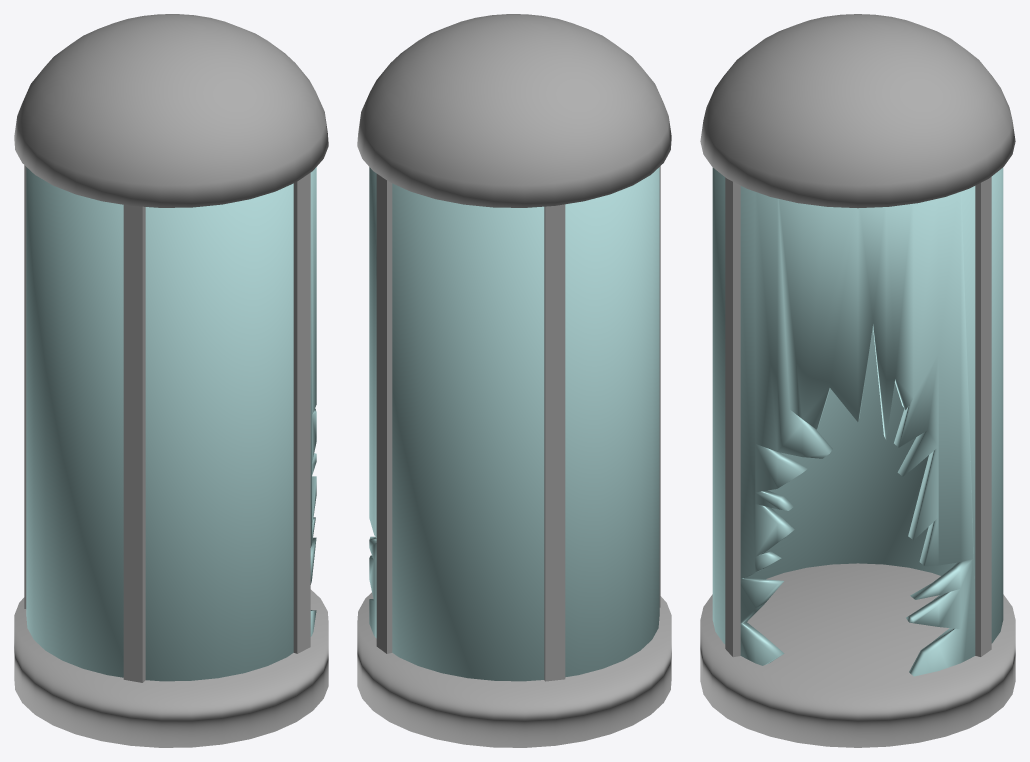
Rendered from monster_tube.fbx.
The picture shows the model from 3 angles, left to right: view 1: azimuth 30°, elevation 25°; view 2: azimuth 150°, elevation 25°; view 3: azimuth 270°, elevation 25°; orthographic projection.
Visible parts, largest first — view 1: Cylinder, Sphere, Cylinder.001, Cube.002, Cube, Cube.003; view 2: Cylinder, Sphere, Cylinder.001, Cube.003, Cube.001, Cube.002; view 3: Cylinder, Sphere, Cylinder.001, Cube.001, Cube.
Part boxes in pixels (<box>): Cylinder: <box>26,167,316,681</box>; Sphere: <box>14,14,328,207</box>; Cylinder.001: <box>14,589,328,747</box>; Cube.002: <box>123,205,145,682</box>; Cube: <box>293,173,310,653</box>; Cube.003: <box>24,165,26,608</box>; Cylinder: <box>369,167,659,681</box>; Sphere: <box>357,14,671,207</box>; Cylinder.001: <box>357,592,671,747</box>; Cube.003: <box>544,204,565,681</box>; Cube.001: <box>376,174,392,653</box>; Cube.002: <box>659,166,660,607</box>; Cylinder: <box>712,167,1003,676</box>; Sphere: <box>700,14,1015,208</box>; Cylinder.001: <box>700,563,1015,747</box>; Cube.001: <box>975,177,991,656</box>; Cube: <box>725,177,740,657</box>.
Bounding box in the file's own units: 200 × 454 × 200.
